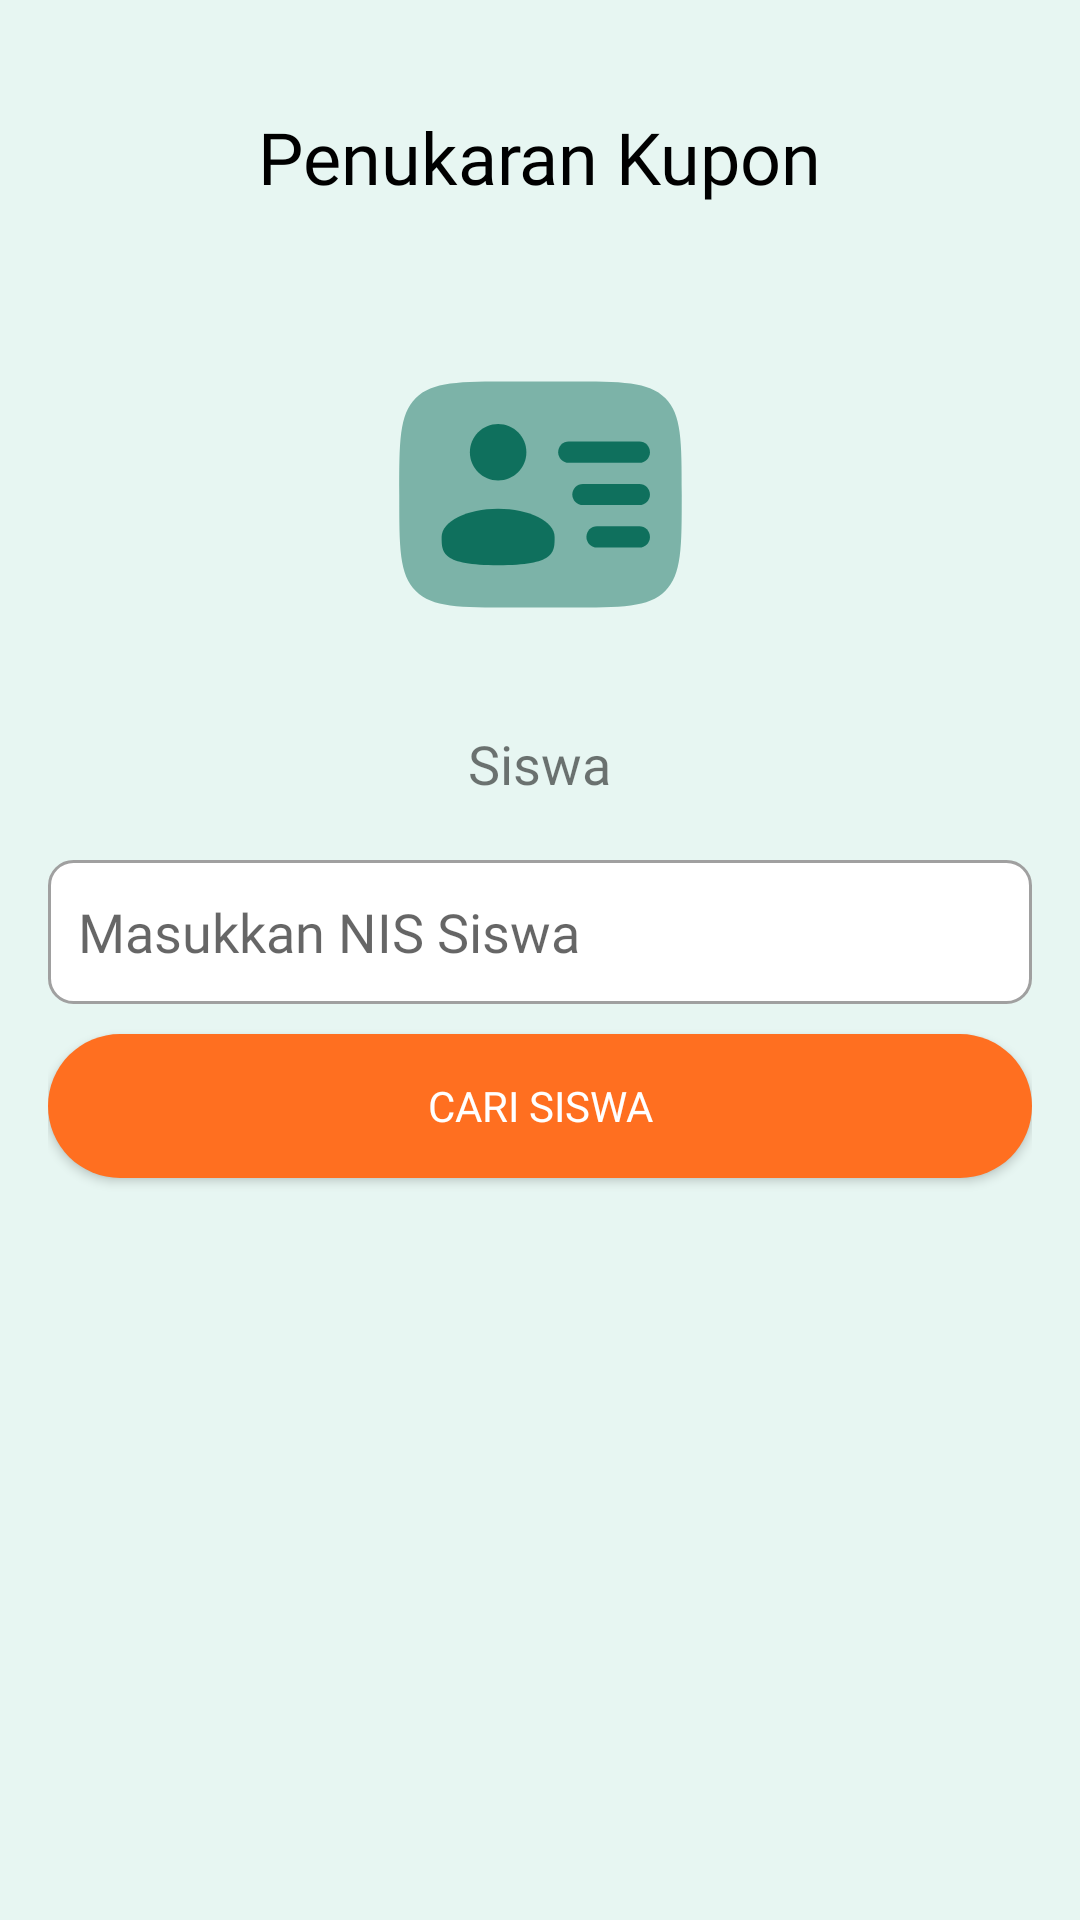

Locate icon controls on the screen. Image size 1080x1920, boxes as (x1, y1, x2, y2).
user id: (399, 381, 682, 608)
